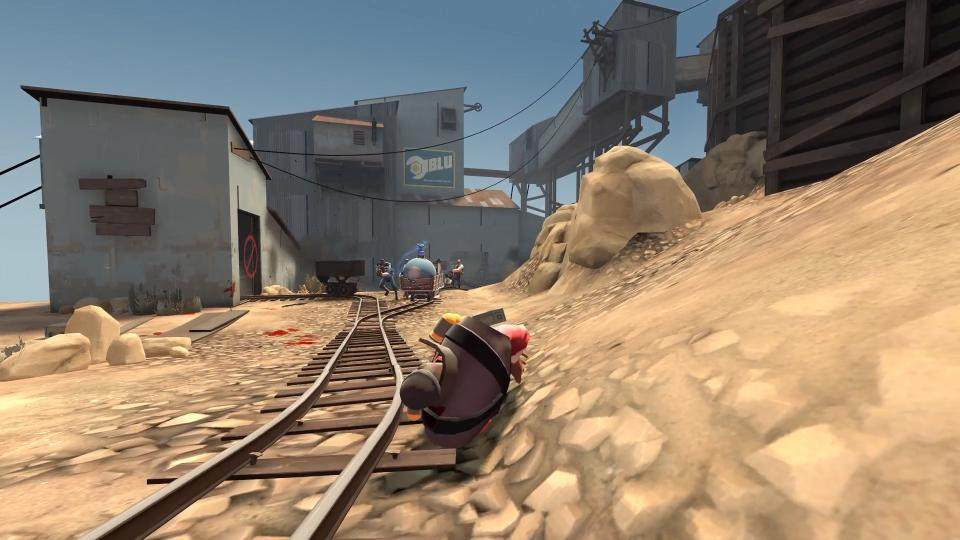Enemy: (400, 313, 530, 449), (376, 259, 399, 301), (445, 260, 464, 289)
